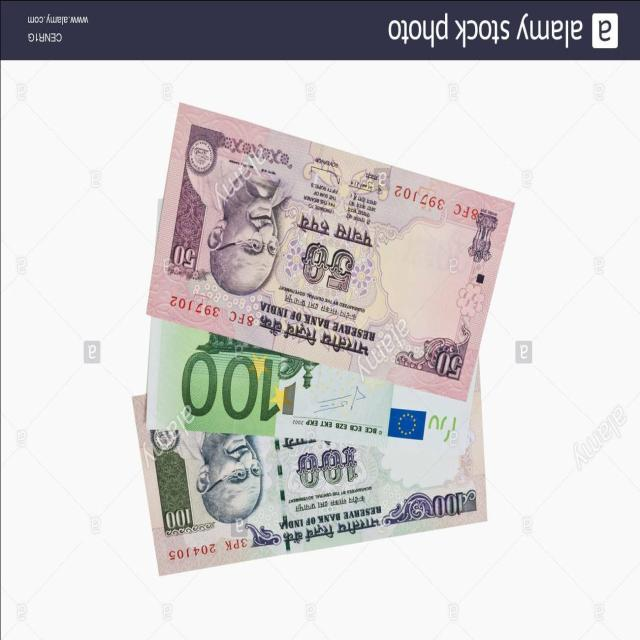50IndianRupees: (149, 115, 513, 382)
